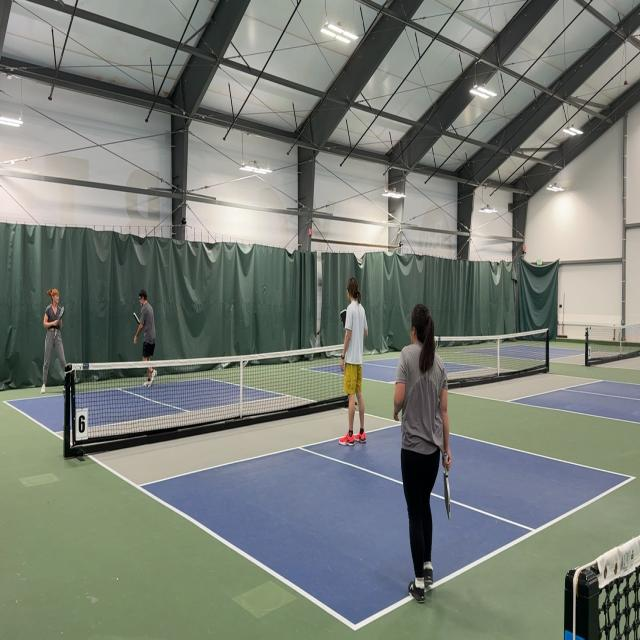ball: (133, 338, 138, 346)
